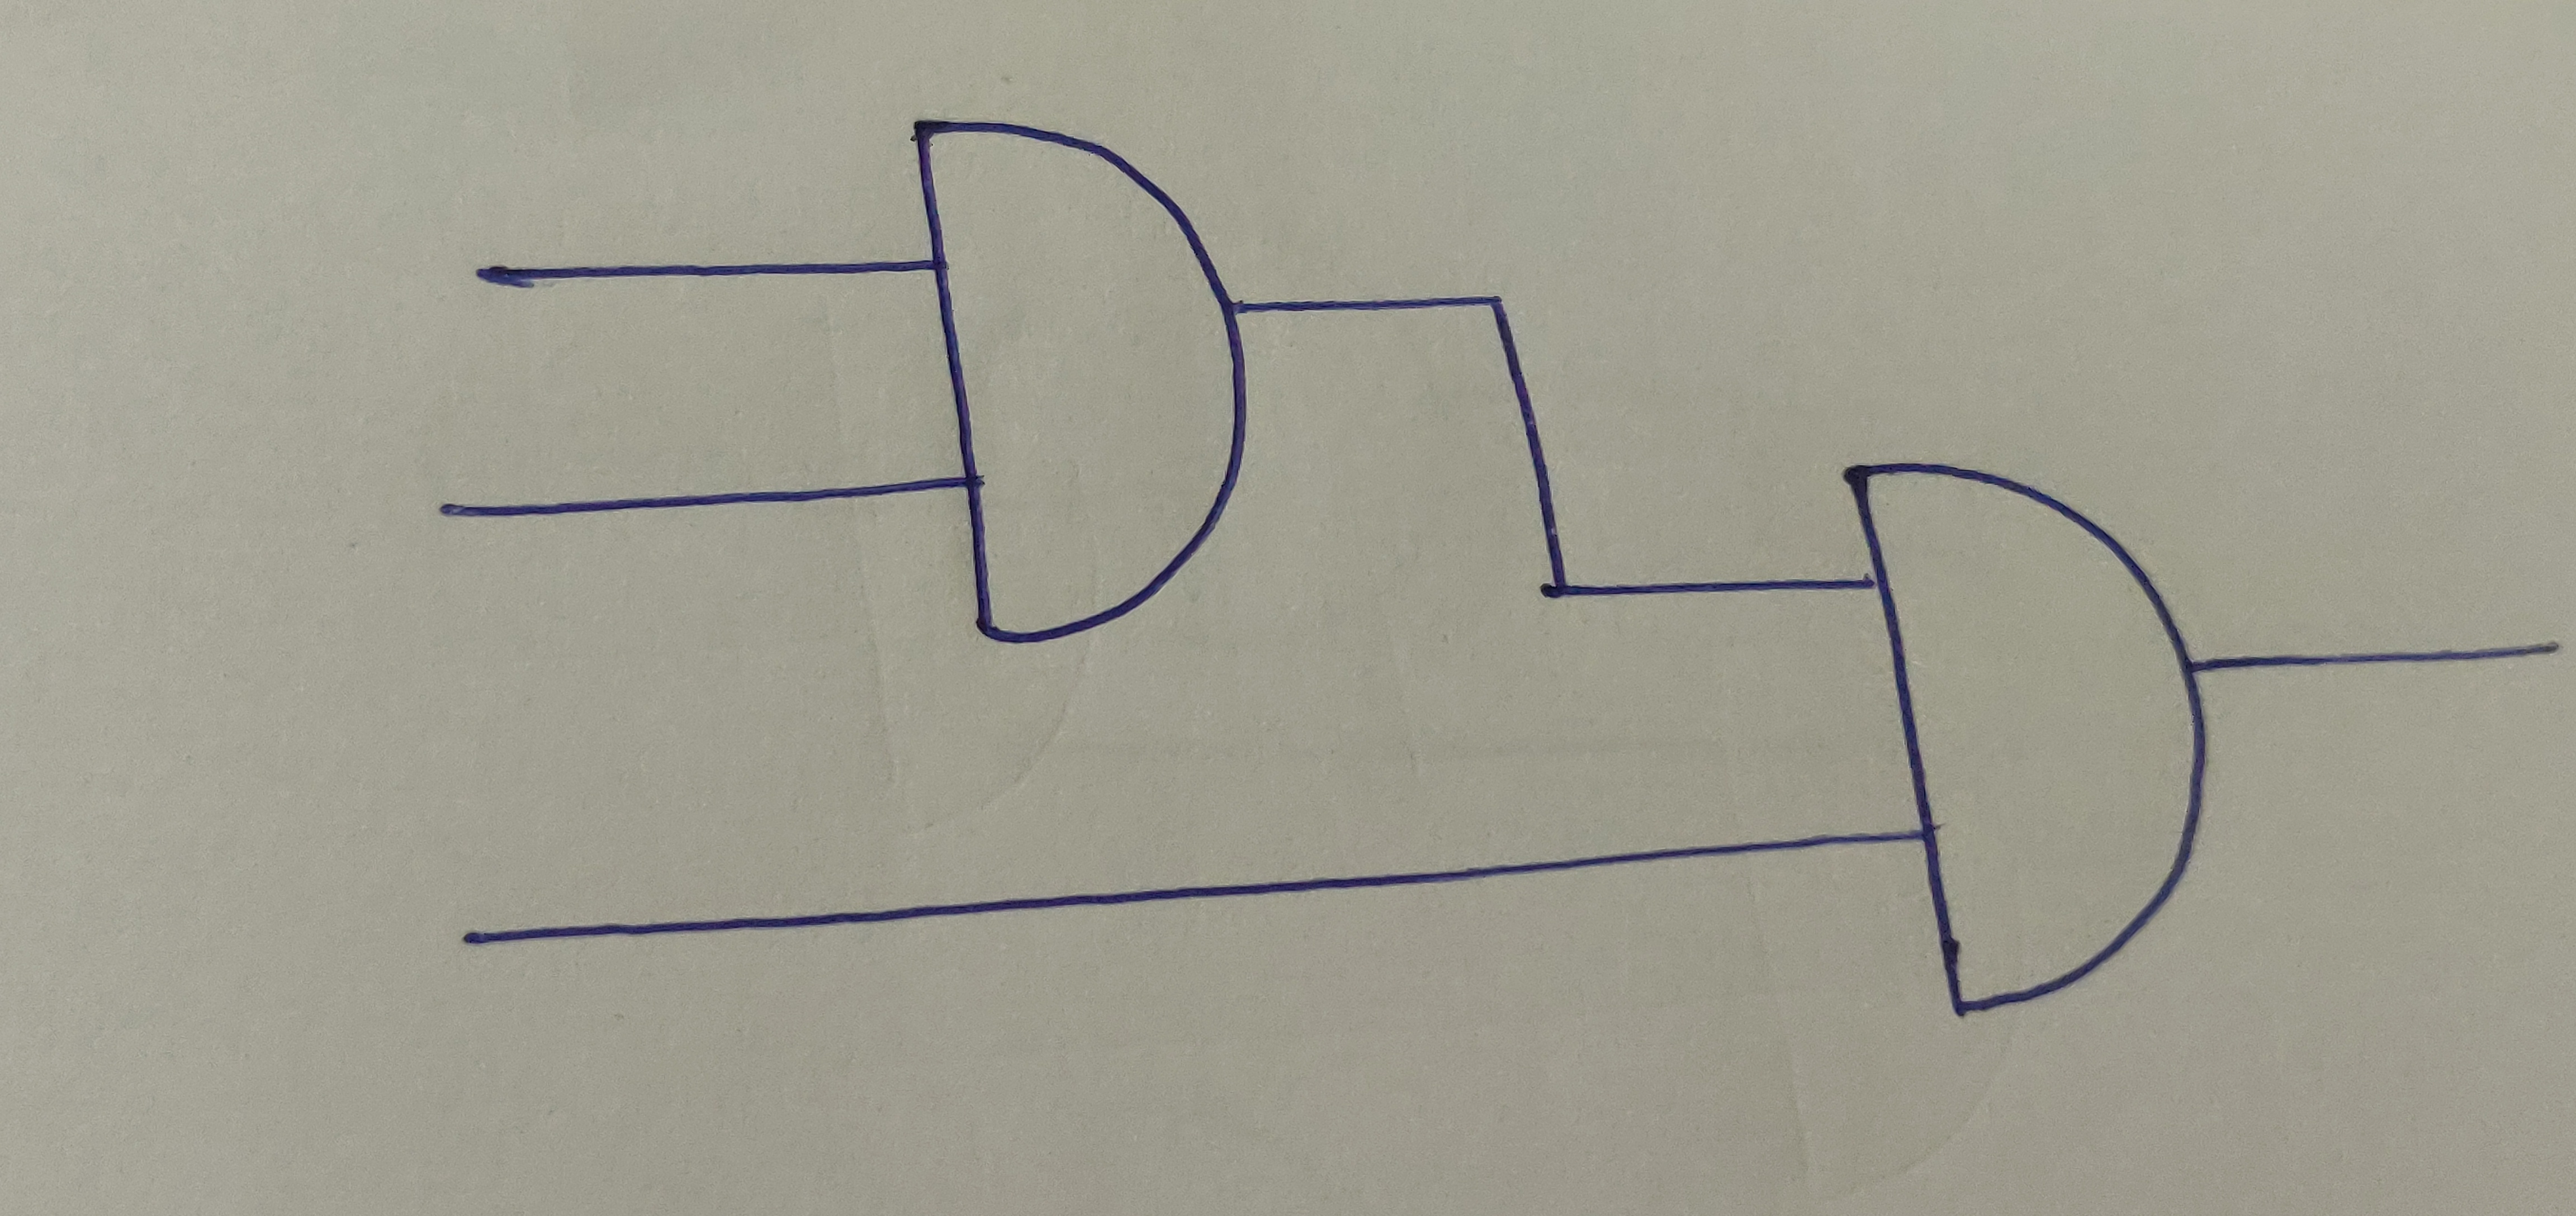and: (1837, 457, 2208, 1014), (907, 118, 1258, 644)
